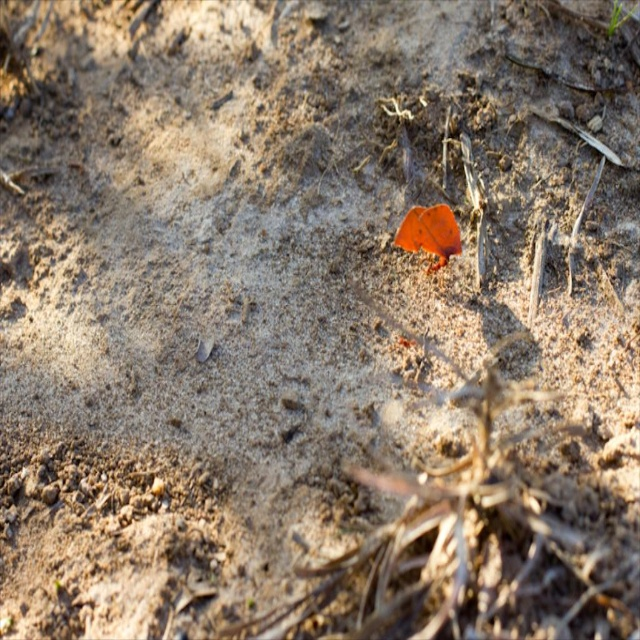Butterfly: (396, 186, 463, 276)
